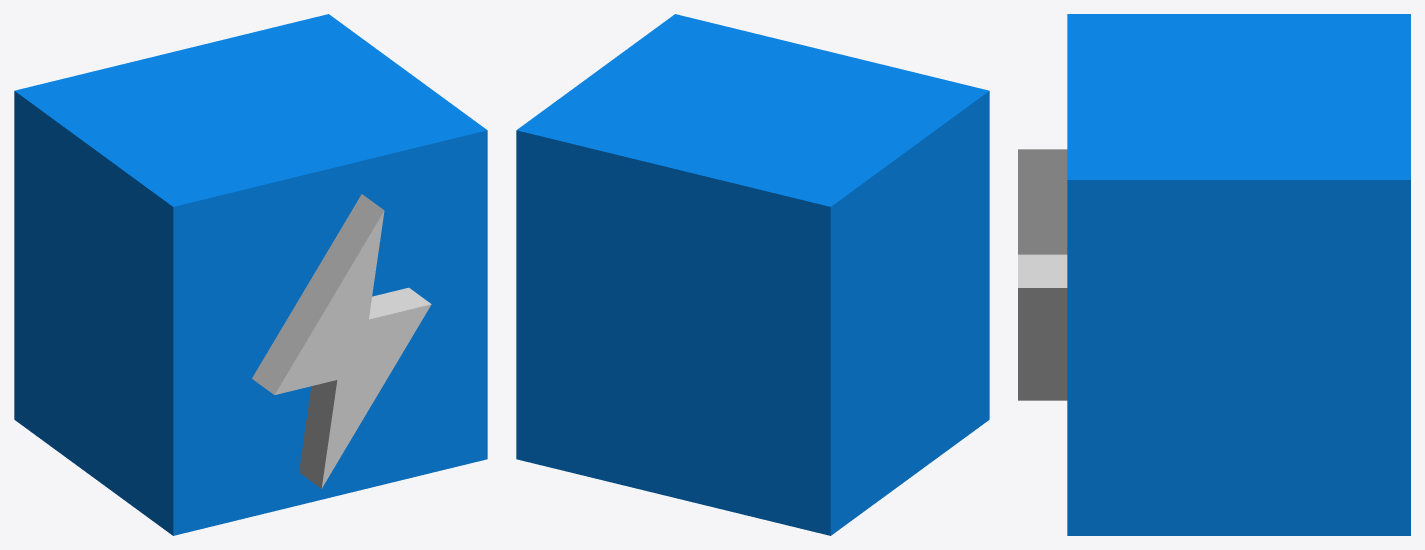
The model's file is cube-power.glb.
3 renders of one model, left to right at view 1: azimuth 30°, elevation 25°; view 2: azimuth 150°, elevation 25°; view 3: azimuth 270°, elevation 25°, orthographic. The views are drawn at different scales.
Visible parts, largest first — view 1: cube-power; view 2: cube-power; view 3: cube-power.
Boxes of the visible parts, left/top/right/bottom form: cube-power: left=14, top=14, right=487, bottom=535; cube-power: left=516, top=14, right=989, bottom=535; cube-power: left=1018, top=14, right=1410, bottom=535.
Size of the model in its own units: 1 by 1 by 1.
